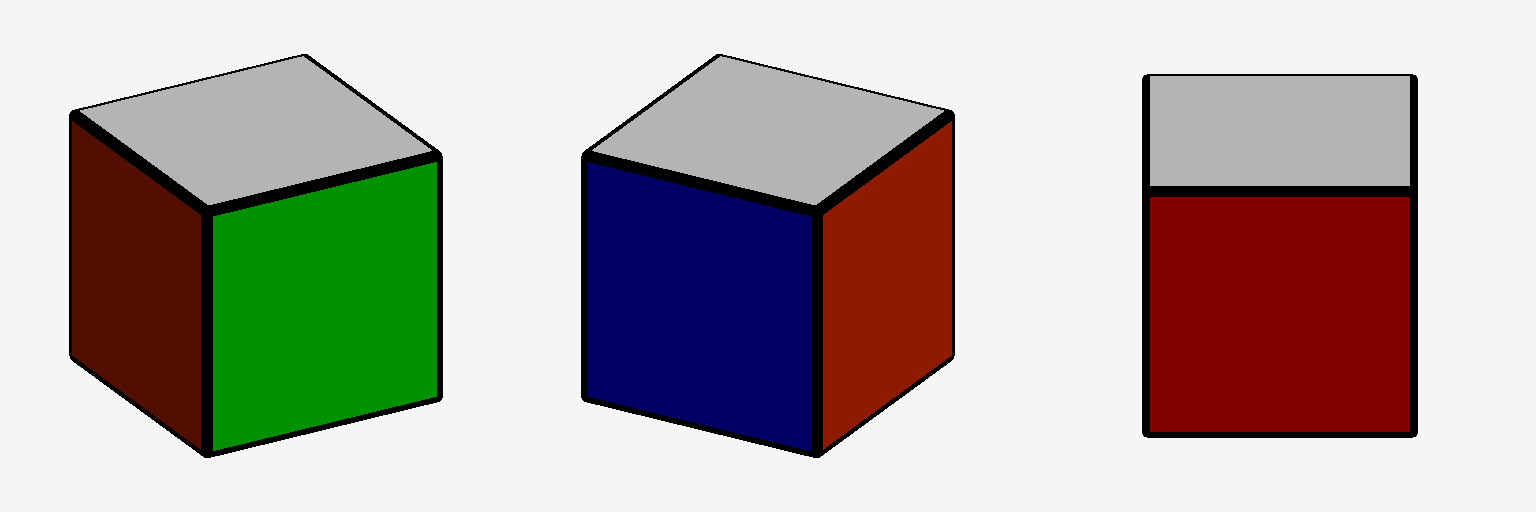
File: rubix1x1.obj
The picture shows the model from 3 angles: view 1: azimuth 30°, elevation 25°; view 2: azimuth 150°, elevation 25°; view 3: azimuth 270°, elevation 25°; orthographic projection.
Visible parts, largest first — view 1: Rubix; view 2: Rubix; view 3: Rubix.
Part boxes in pixels (bbox=[...]): Rubix: bbox=[69, 54, 442, 457]; Rubix: bbox=[581, 54, 954, 457]; Rubix: bbox=[1142, 74, 1417, 437].
Bounding box in the file's own units: 2 × 2 × 2.